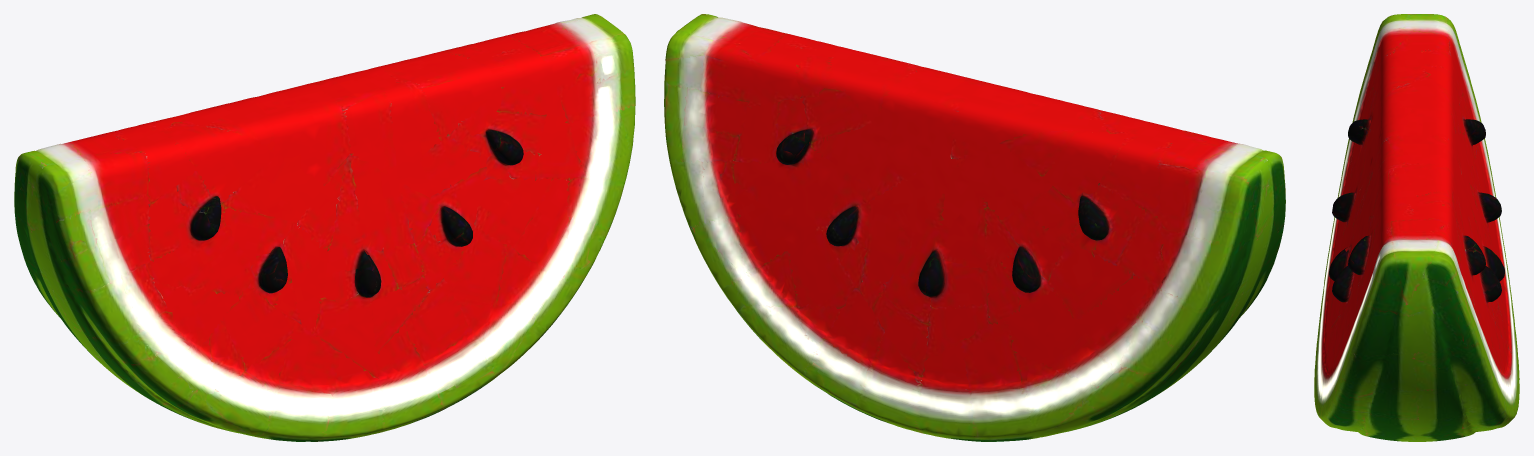
3 renders of one model, left to right at view 1: azimuth 30°, elevation 25°; view 2: azimuth 150°, elevation 25°; view 3: azimuth 270°, elevation 25°, orthographic. The views are drawn at different scales.
Bounding box in the file's own units: 1.9 × 0.994 × 0.6664.
1 material, 1 textured.
